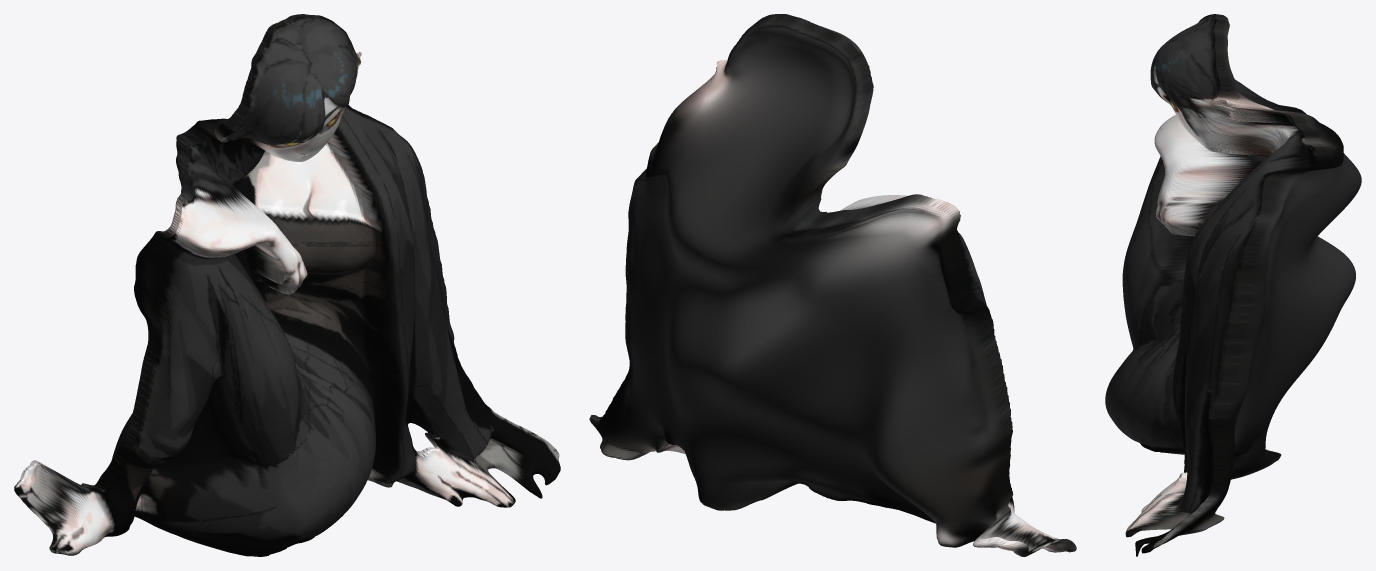
File: elf.glb
3 views of the same model, side by side, from view 1: azimuth 30°, elevation 25°; view 2: azimuth 150°, elevation 25°; view 3: azimuth 270°, elevation 25° (orthographic). The views are drawn at different scales.
Visible parts, largest first — view 1: geometry_0; view 2: geometry_0; view 3: geometry_0.
Boxes of the visible parts, <box> form: geometry_0: <box>14,14,560,556</box>; geometry_0: <box>589,14,1076,556</box>; geometry_0: <box>1105,14,1361,556</box>.
Bounding box in the file's own units: 0.8855 × 0.8601 × 0.4455.
1 material, 1 textured.
